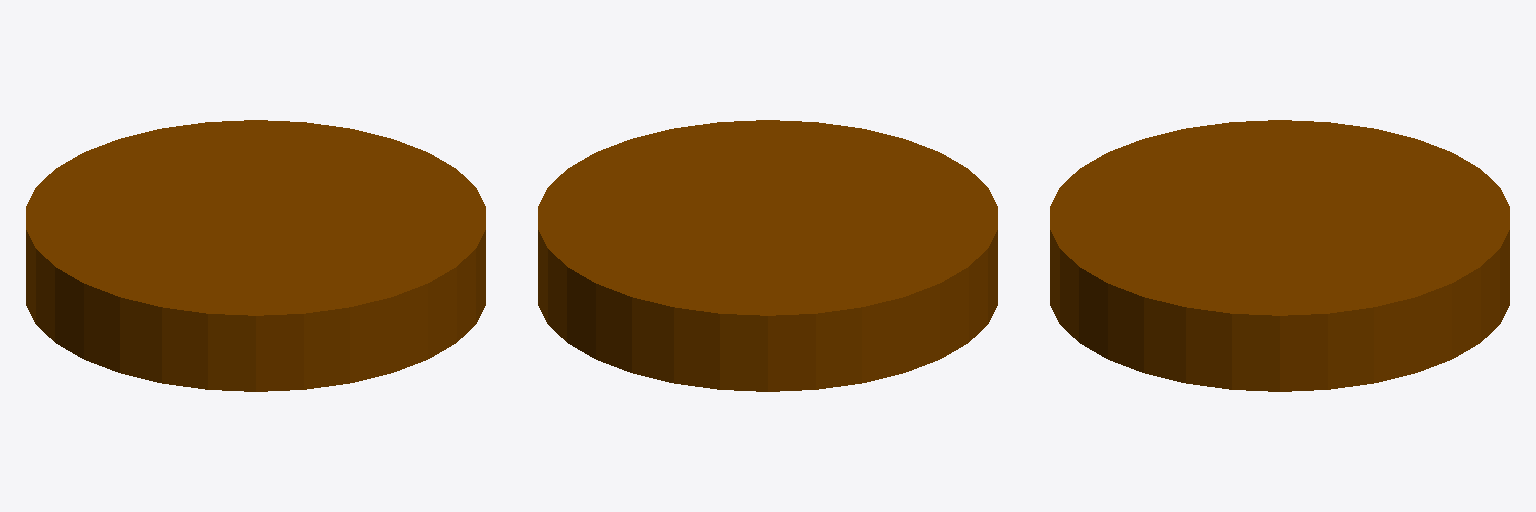
3 renders of one model, left to right at view 1: azimuth 30°, elevation 25°; view 2: azimuth 150°, elevation 25°; view 3: azimuth 270°, elevation 25°, orthographic.
Visible parts, largest first — view 1: base; view 2: base; view 3: base.
Part boxes in pixels (bbox=[...]): base: bbox=[26, 120, 485, 391]; base: bbox=[538, 120, 997, 391]; base: bbox=[1050, 120, 1509, 391].
Size of the model in its own units: 114 by 20.72 by 114.